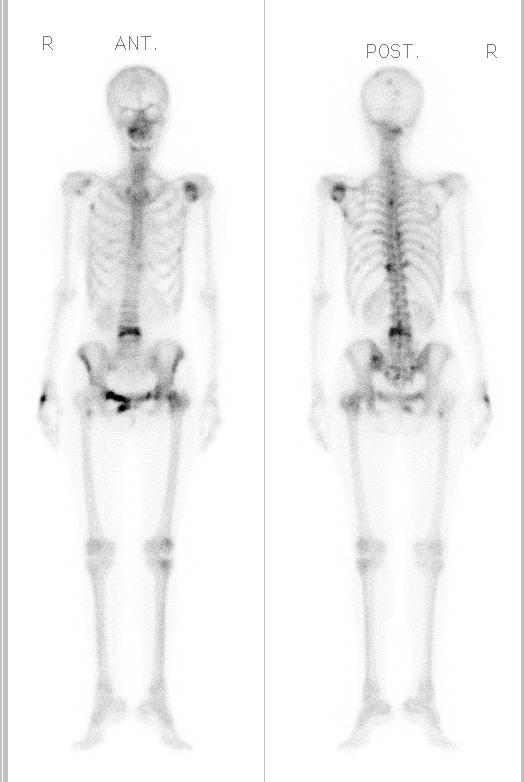person: (8, 1, 521, 782)
